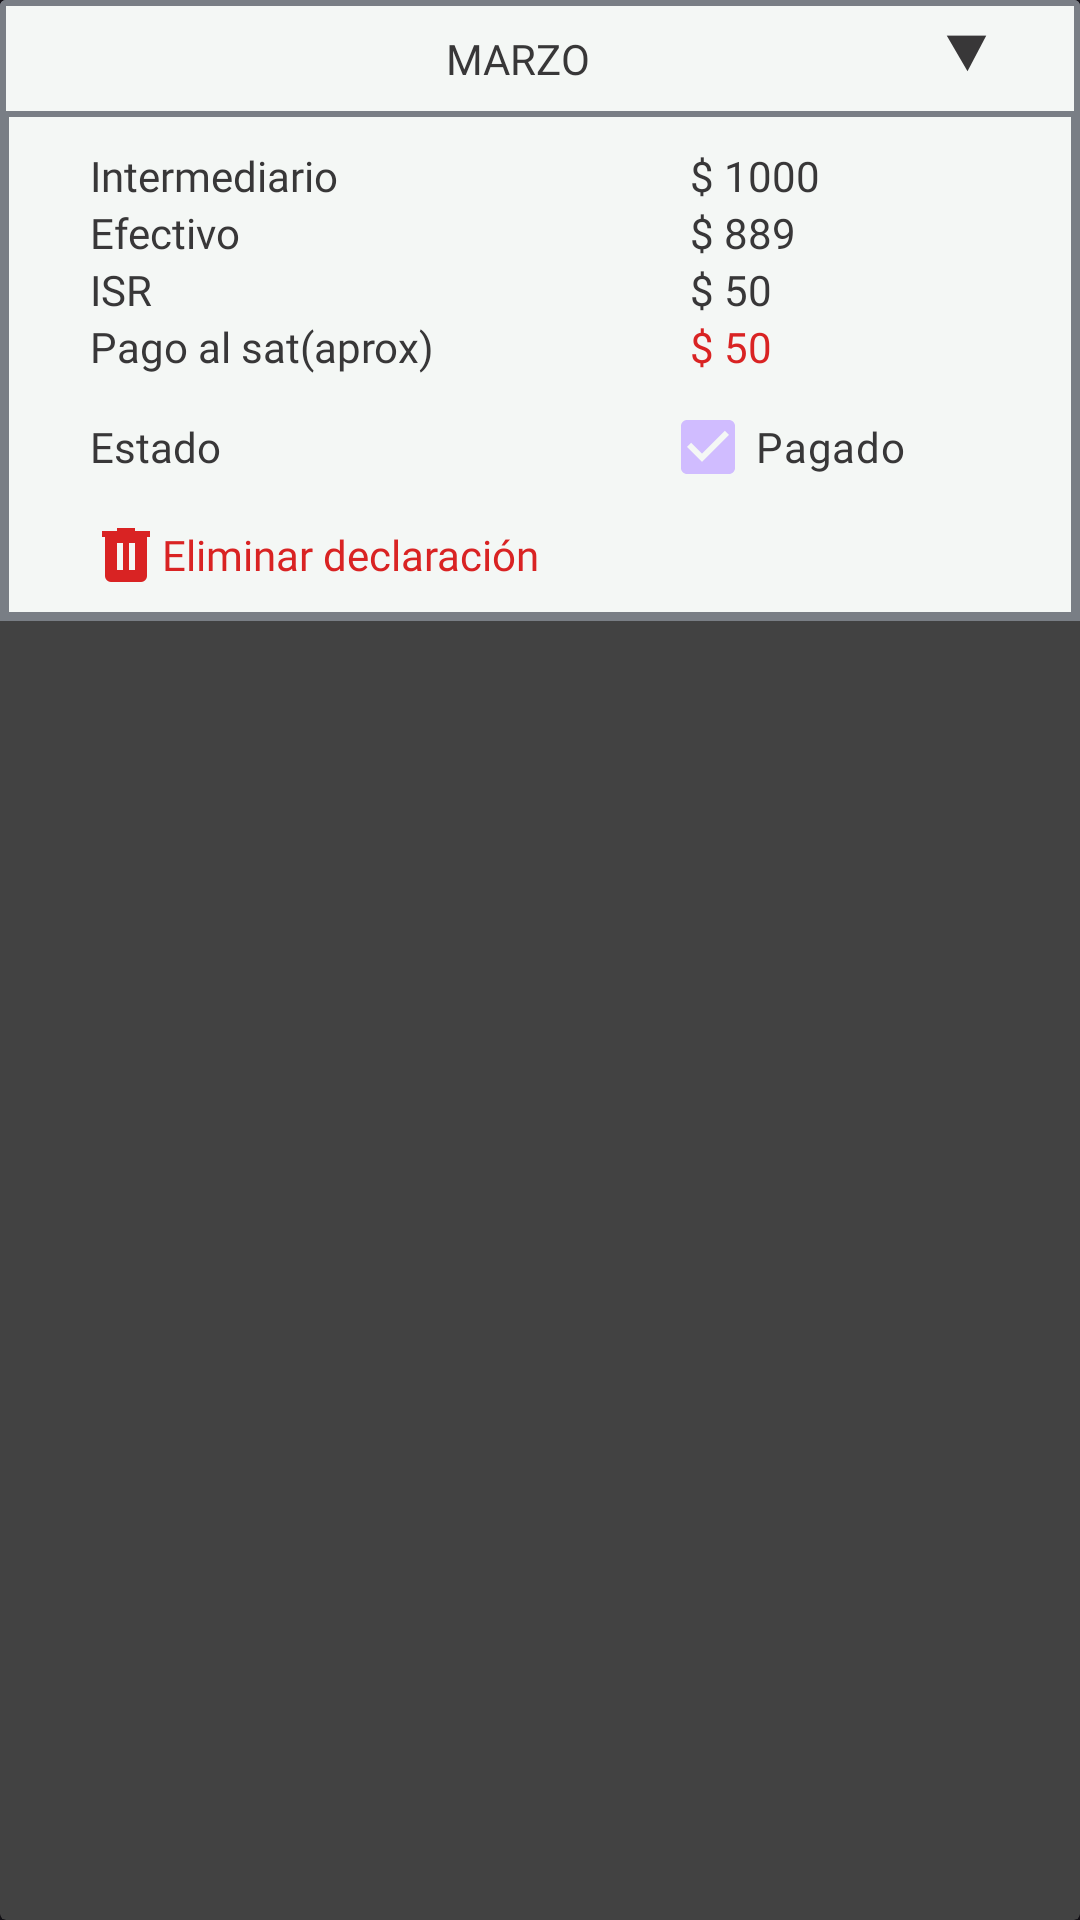

Point at icon controls on the screen. Image size 1080 x 1920, points as point (x, y).
trash can: point (126, 555)
